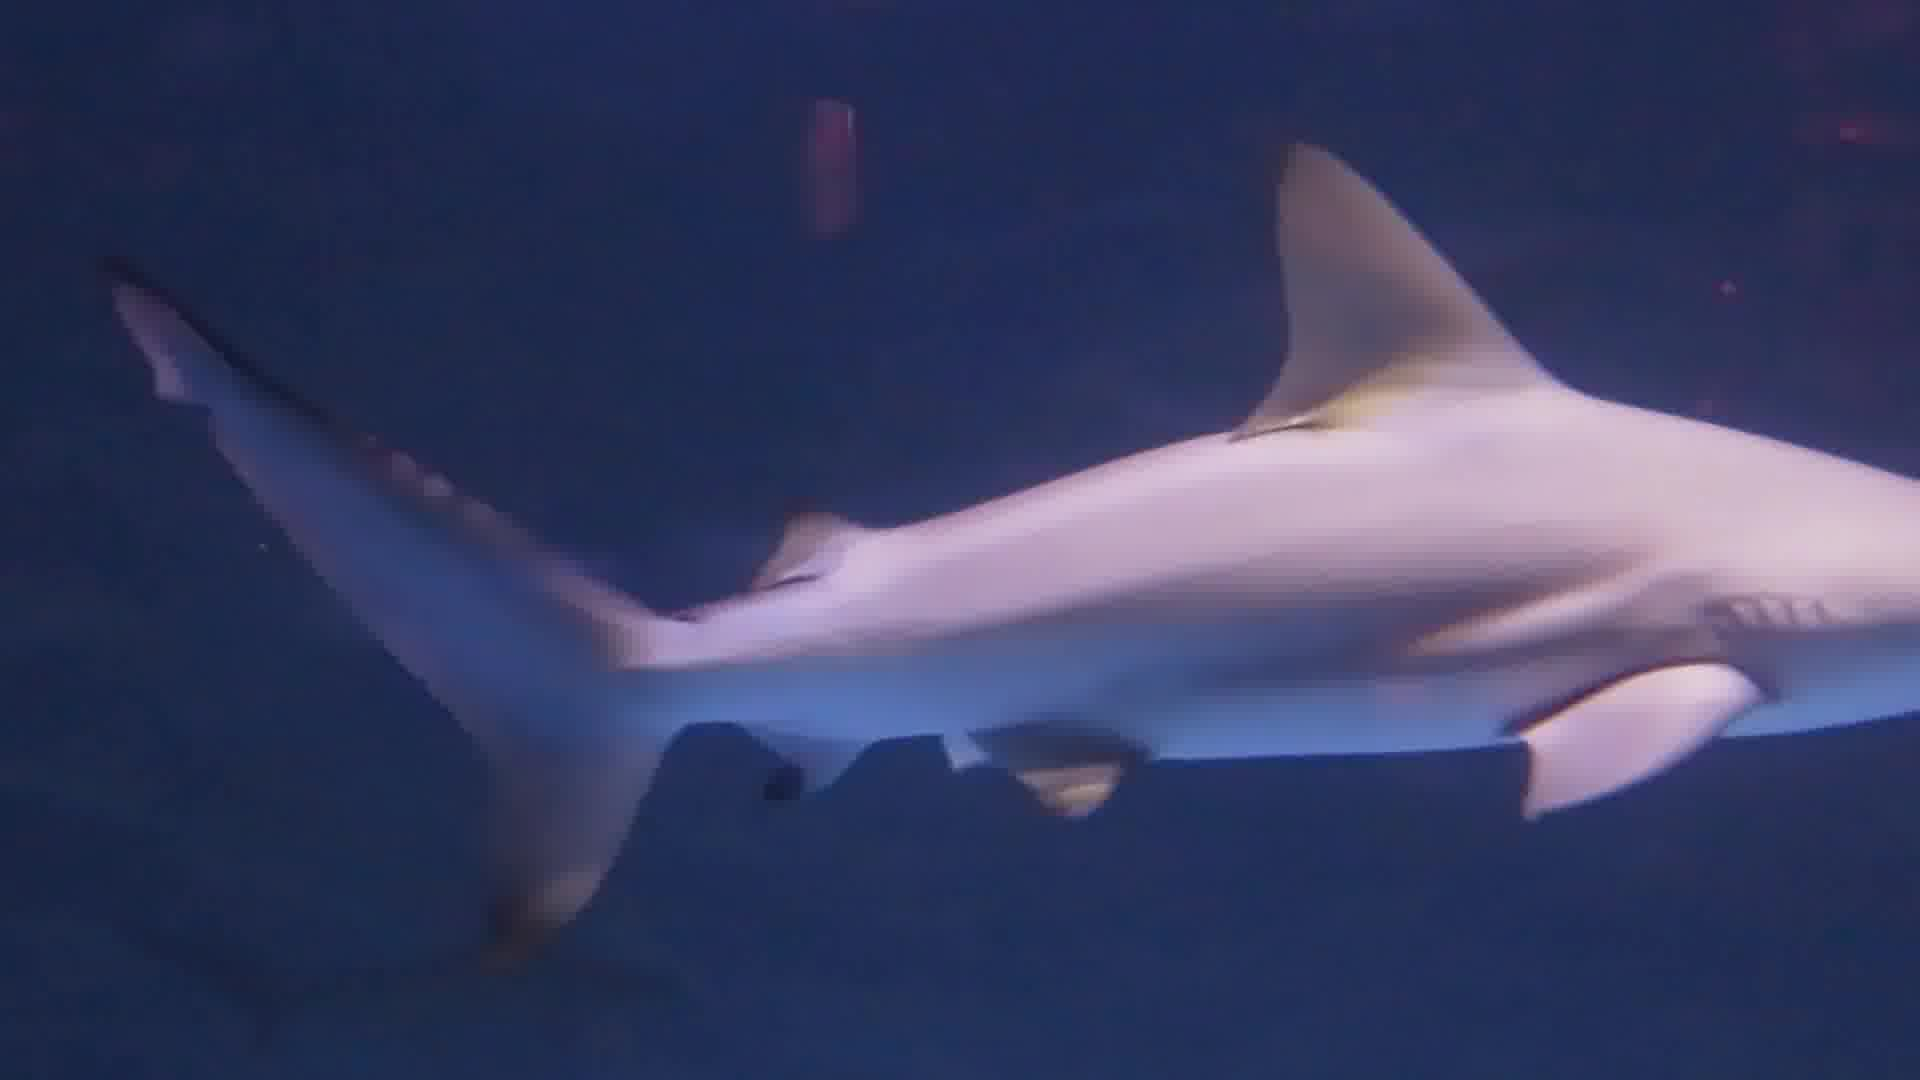Carcharhinus leucas: (69, 136, 1920, 945)
